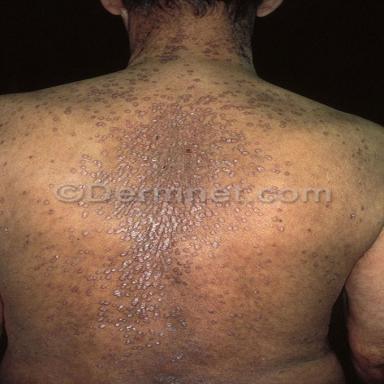lichen: (62, 67, 308, 188), (78, 202, 266, 359), (132, 9, 190, 64), (32, 249, 92, 273), (201, 38, 235, 56)
